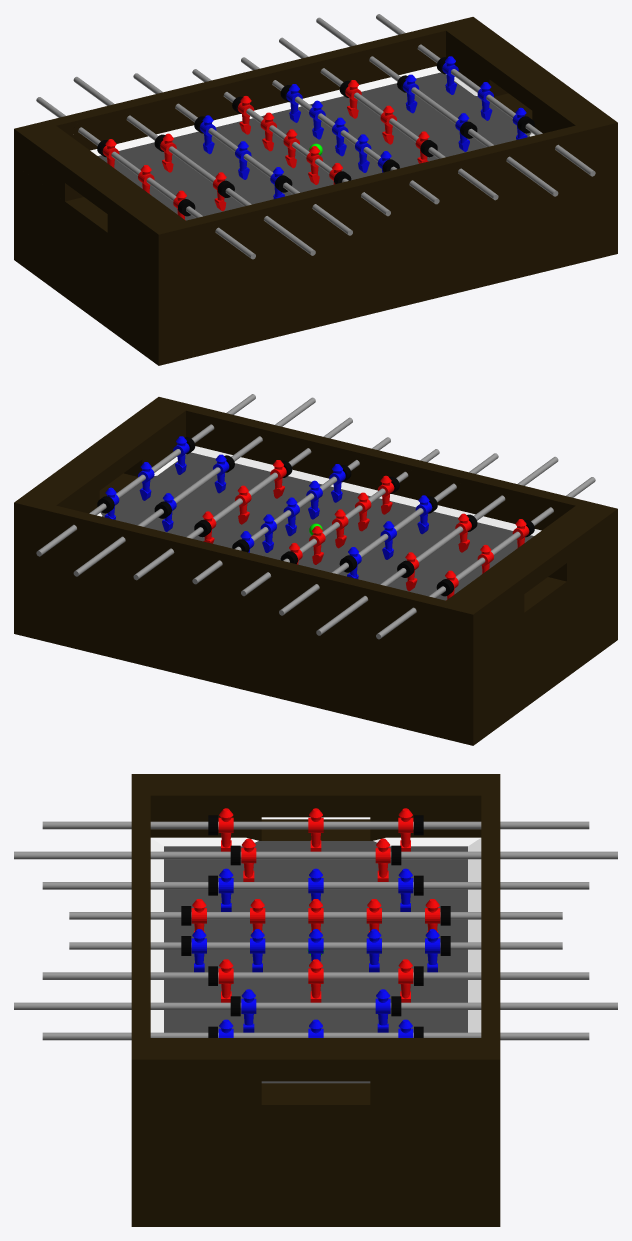
The model's file is Foosball_V8.fbx.
3 renders of one model, top to bottom at view 1: azimuth 30°, elevation 25°; view 2: azimuth 150°, elevation 25°; view 3: azimuth 270°, elevation 25°, orthographic. The views are drawn at different scales.
Parts seen in each view (by area): view 1: Wall.Side.NZ, Field, Red.Wall.Goal.Bottom, Wall.Side.PZ, Red.Wall.Goal.Top, Blue.Wall.Goal.Top, Ramps, D.Rod.004, D.Rod.003, A.Rod.004, G.Rod.003, G.Rod.004 (+6 smaller); view 2: Wall.Side.PZ, Field, Red.Wall.Goal.Bottom, Wall.Side.NZ, Red.Wall.Goal.Top, Blue.Wall.Goal.Top, Ramps, D.Rod.004, D.Rod.003, A.Rod.004, A.Rod.003, G.Rod.003 (+6 smaller); view 3: Blue.Wall.Goal.Bottom, Field, Blue.Wall.Goal.Top, Red.Wall.Goal.Top, Wall.Side.NZ, Wall.Side.PZ, Ramps, D.Rod.004, D.Rod.003, G.Rod.004, A.Rod.004, A.Rod.003 (+8 smaller).
Part boxes in pixels (x1=…): Wall.Side.NZ: x1=151, y1=122, x2=617, y2=365; Field: x1=98, y1=72, x2=531, y2=220; Red.Wall.Goal.Bottom: x1=14, y1=170, x2=158, y2=365; Wall.Side.PZ: x1=14, y1=25, x2=448, y2=248; Red.Wall.Goal.Top: x1=14, y1=120, x2=192, y2=250; Blue.Wall.Goal.Top: x1=439, y1=17, x2=617, y2=130; Ramps: x1=90, y1=66, x2=534, y2=155; D.Rod.004: x1=73, y1=76, x2=315, y2=255; D.Rod.003: x1=316, y1=17, x2=558, y2=196; A.Rod.004: x1=279, y1=37, x2=498, y2=200; G.Rod.003: x1=376, y1=14, x2=595, y2=176; G.Rod.004: x1=36, y1=97, x2=255, y2=259; Wall.Side.PZ: x1=14, y1=502, x2=480, y2=745; Field: x1=100, y1=452, x2=533, y2=600; Red.Wall.Goal.Bottom: x1=480, y1=550, x2=617, y2=739; Wall.Side.NZ: x1=186, y1=405, x2=617, y2=615; Red.Wall.Goal.Top: x1=439, y1=500, x2=617, y2=625; Blue.Wall.Goal.Top: x1=14, y1=397, x2=192, y2=510; Ramps: x1=97, y1=446, x2=541, y2=535; D.Rod.004: x1=316, y1=456, x2=558, y2=635; D.Rod.003: x1=73, y1=397, x2=315, y2=576; A.Rod.004: x1=133, y1=417, x2=352, y2=580; A.Rod.003: x1=279, y1=453, x2=498, y2=615; G.Rod.003: x1=36, y1=394, x2=255, y2=556; Blue.Wall.Goal.Bottom: x1=150, y1=1083, x2=481, y2=1226; Field: x1=164, y1=841, x2=467, y2=1083; Blue.Wall.Goal.Top: x1=131, y1=1038, x2=500, y2=1081; Red.Wall.Goal.Top: x1=131, y1=774, x2=500, y2=817; Wall.Side.NZ: x1=131, y1=795, x2=150, y2=1226; Wall.Side.PZ: x1=481, y1=795, x2=500, y2=1226; Ramps: x1=150, y1=837, x2=481, y2=1032; D.Rod.004: x1=14, y1=851, x2=617, y2=859; D.Rod.003: x1=14, y1=1002, x2=617, y2=1009; G.Rod.004: x1=42, y1=821, x2=589, y2=829; A.Rod.004: x1=42, y1=972, x2=589, y2=979; A.Rod.003: x1=42, y1=882, x2=589, y2=889.
Size of the model in its own units: 140 by 38.55 by 125.
